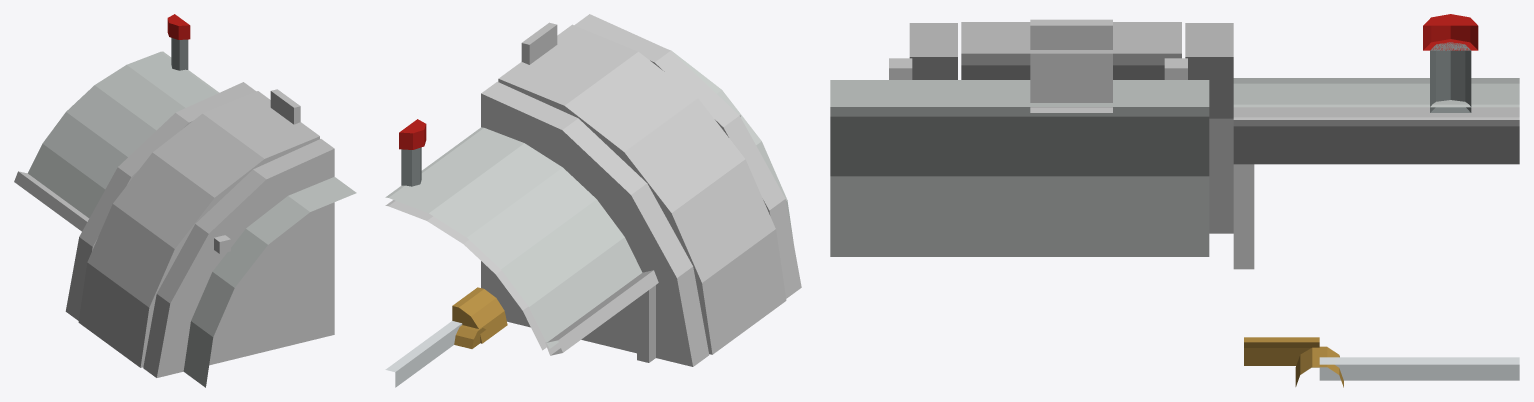
File: cell_90.obj
The picture shows the model from 3 angles, left to right: view 1: azimuth 30°, elevation 25°; view 2: azimuth 150°, elevation 25°; view 3: azimuth 270°, elevation 25°; orthographic projection. The views are drawn at different scales.
Bounding box in the file's own units: 0.535 × 0.58 × 1.
